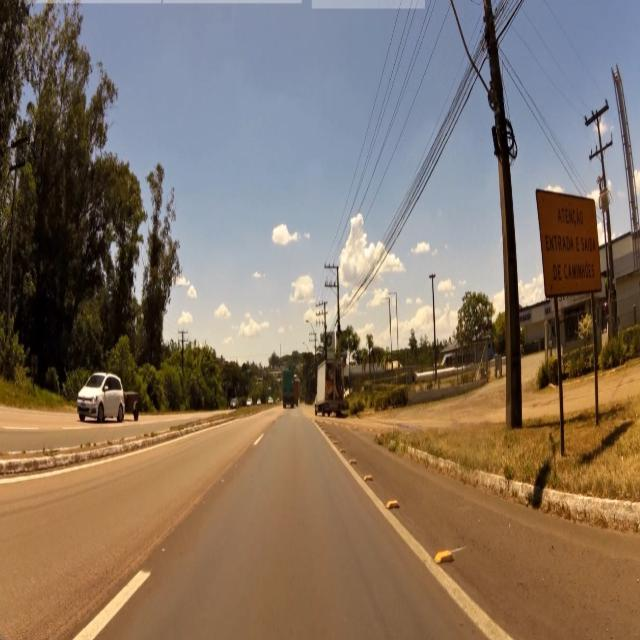ESP-20: (535, 186, 607, 295)
